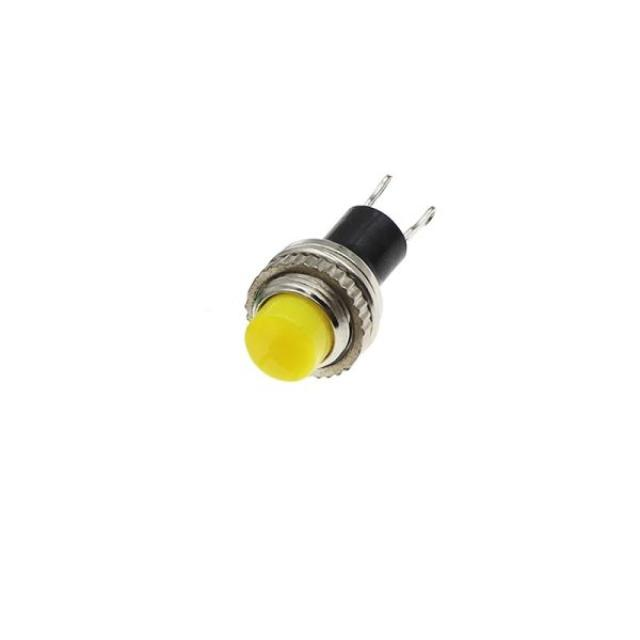Push button: (244, 177, 435, 385)
